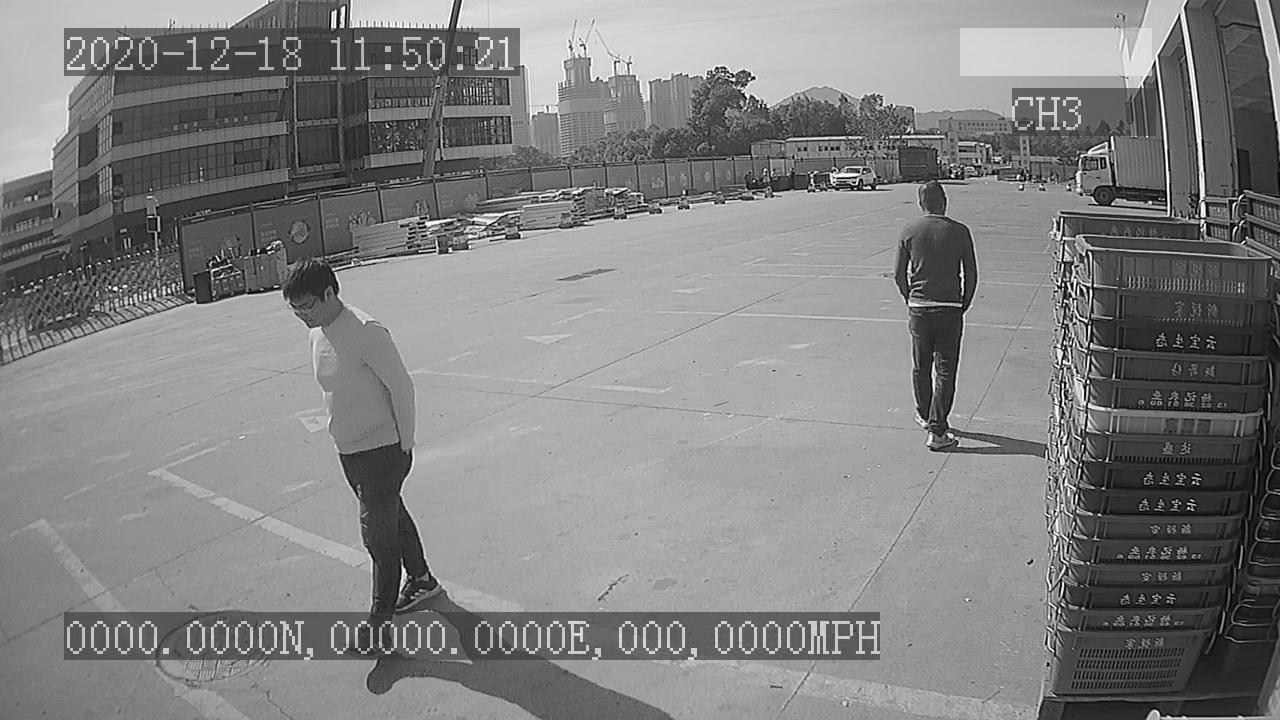person: (890, 174, 981, 458)
